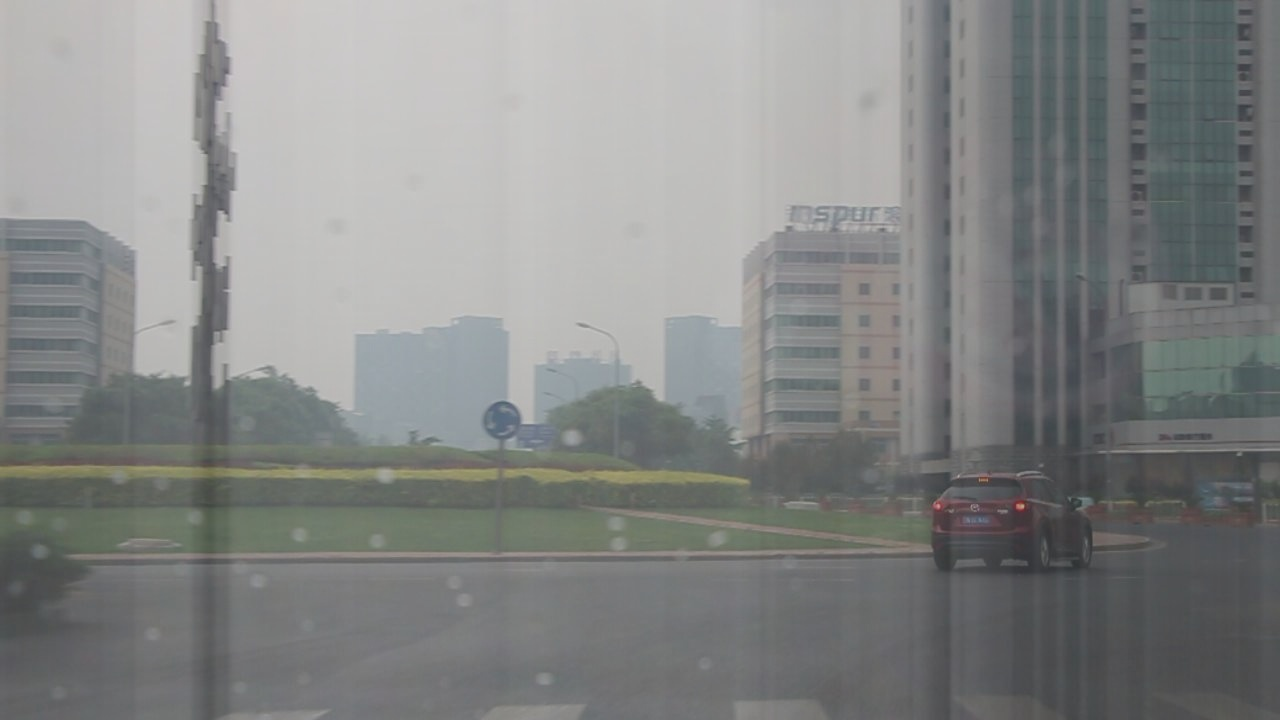Informative Signs: (478, 397, 524, 441)
